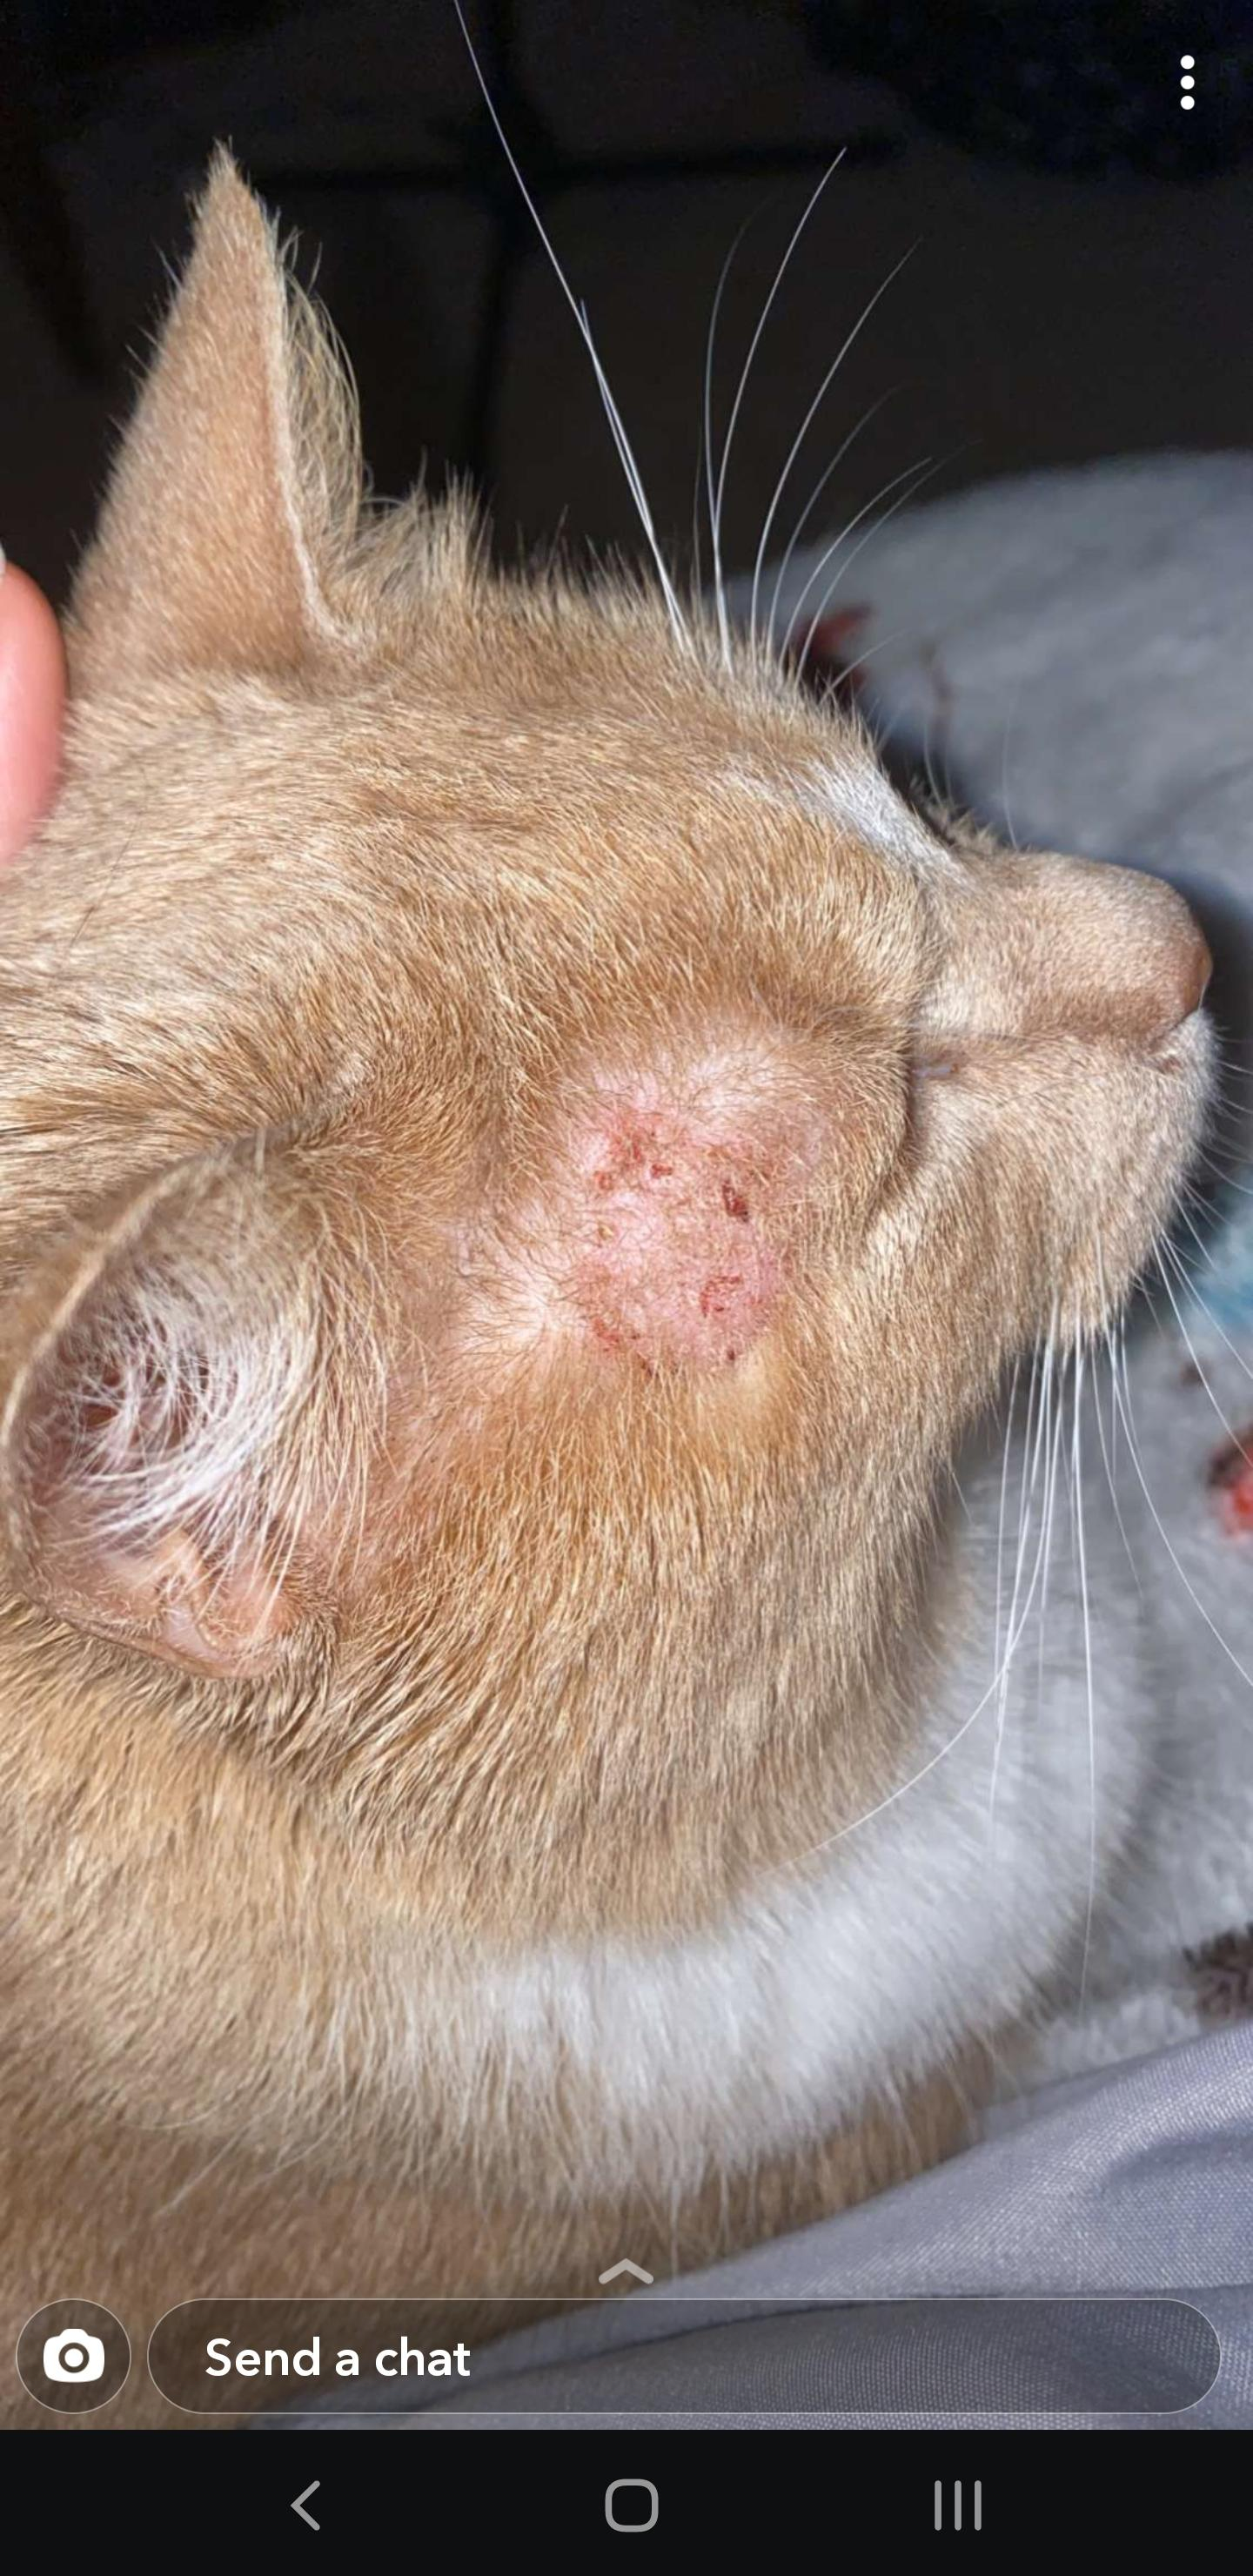ringworm: (475, 1092, 778, 1367)
